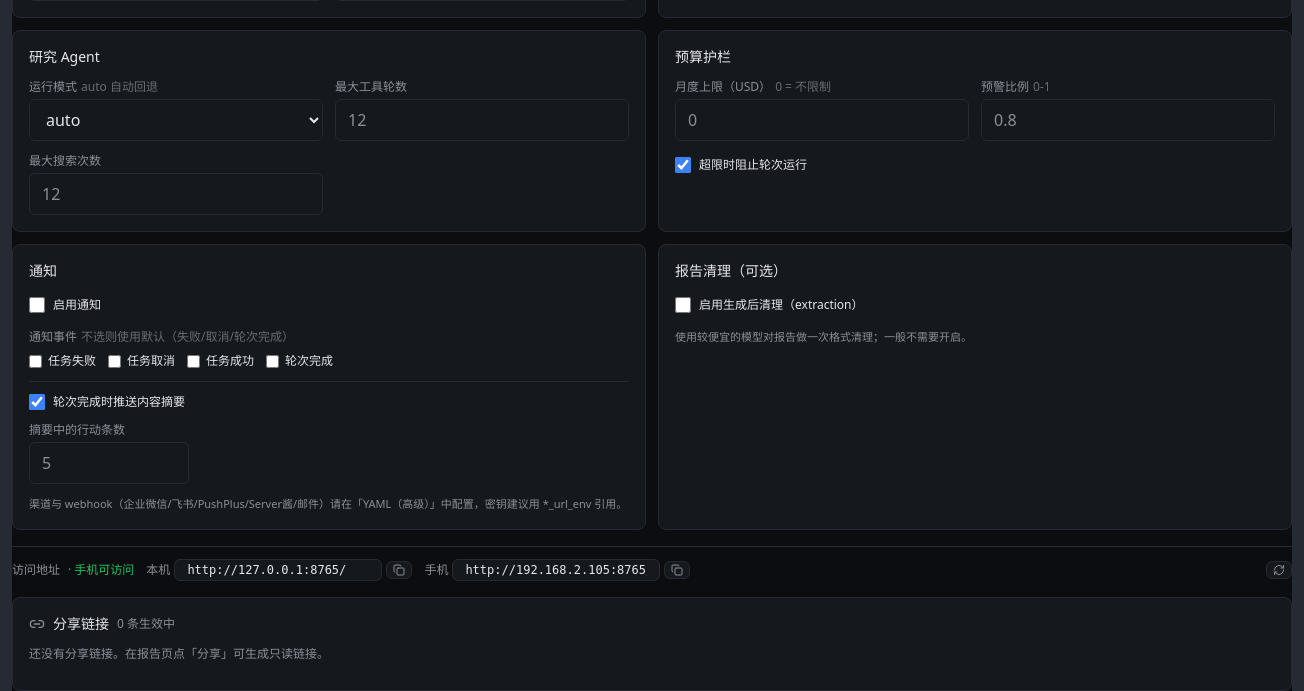
Scenario: Settings access card › copies the link to the clipboard
(page scrolled)
Click the button named "复制手机链接". click: click(677, 570)
box: [664,560,690,578]
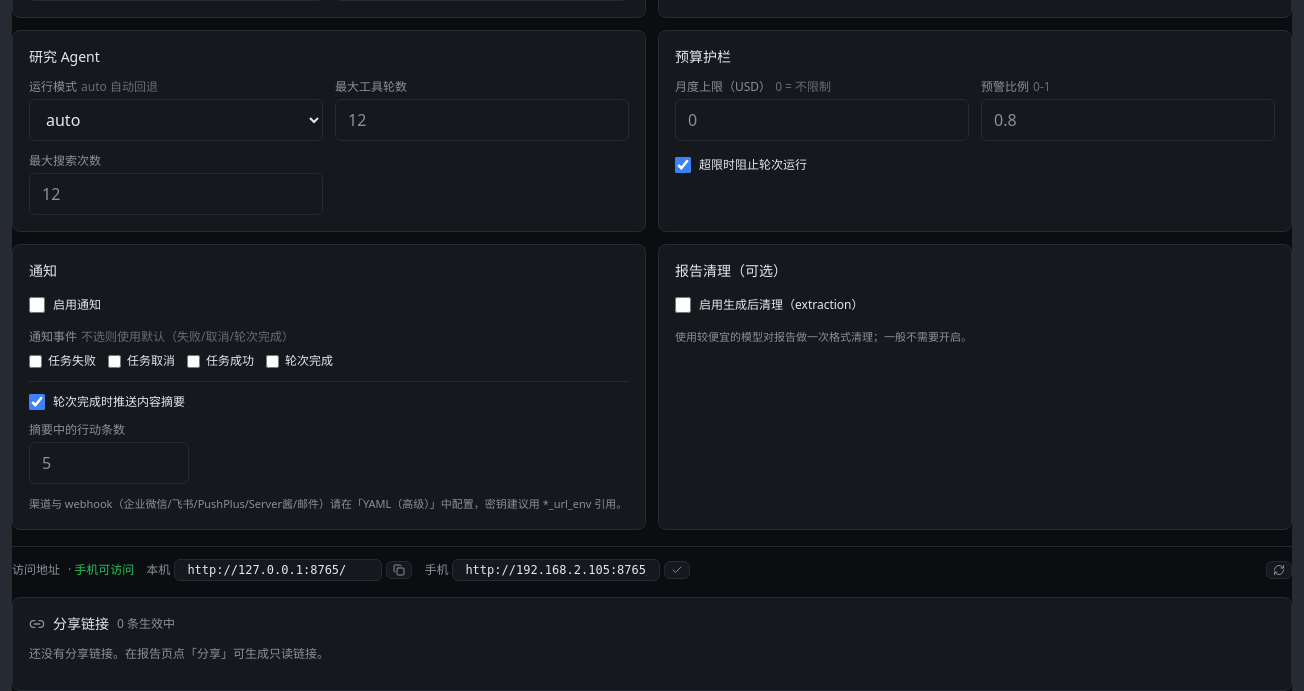
Check: the button titled "已复制" is shown, box [664,560,690,578]
